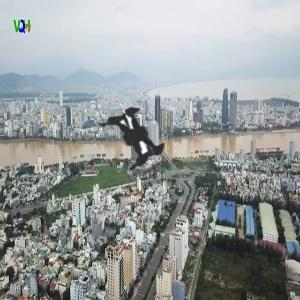drone: (36, 31, 235, 230)
